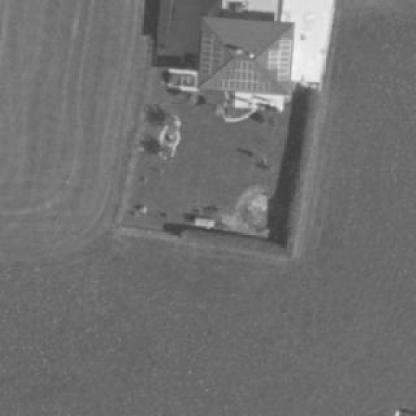solar-pv-panel: (218, 61, 270, 93), (269, 39, 291, 82), (202, 35, 222, 76)
